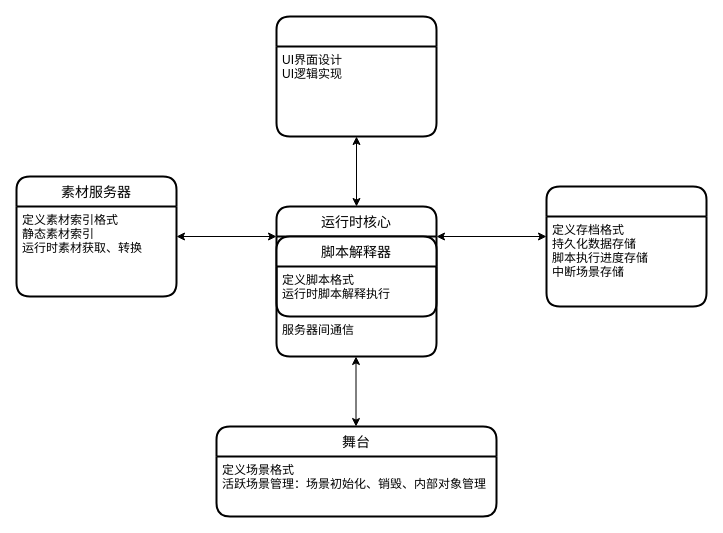
This 723x533 diagram has some shape labels left out. The box of each missing label's shape, as (x1, y1, x2, y2) in pixels:
UI/UX: (275, 15, 437, 137)
存档服务器: (545, 185, 707, 307)
